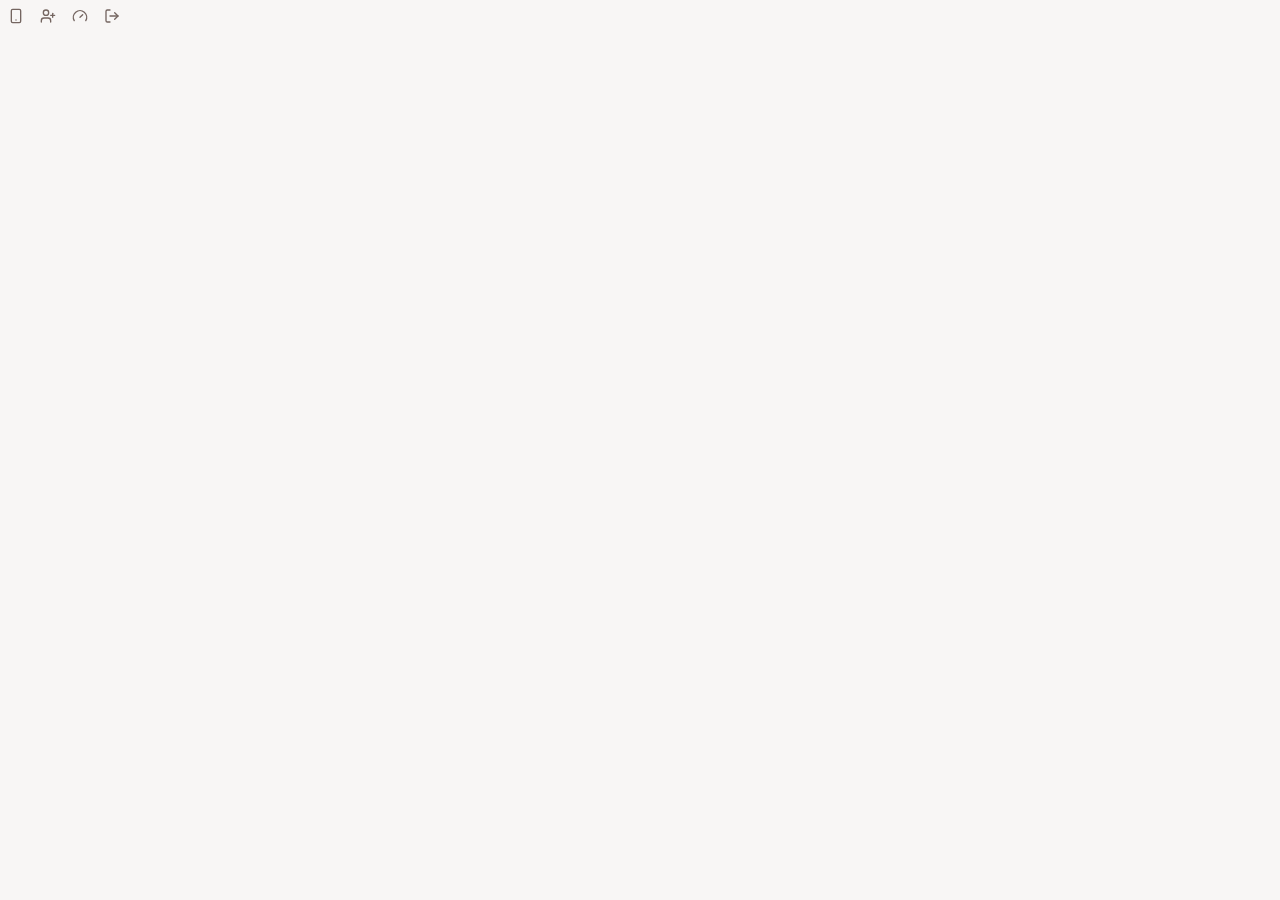
Test: AuthControls self-invite guard › disables inviting your own username and explains why
Click the button named "Invite a user".
click(48, 16)  # box [32,0,64,32]
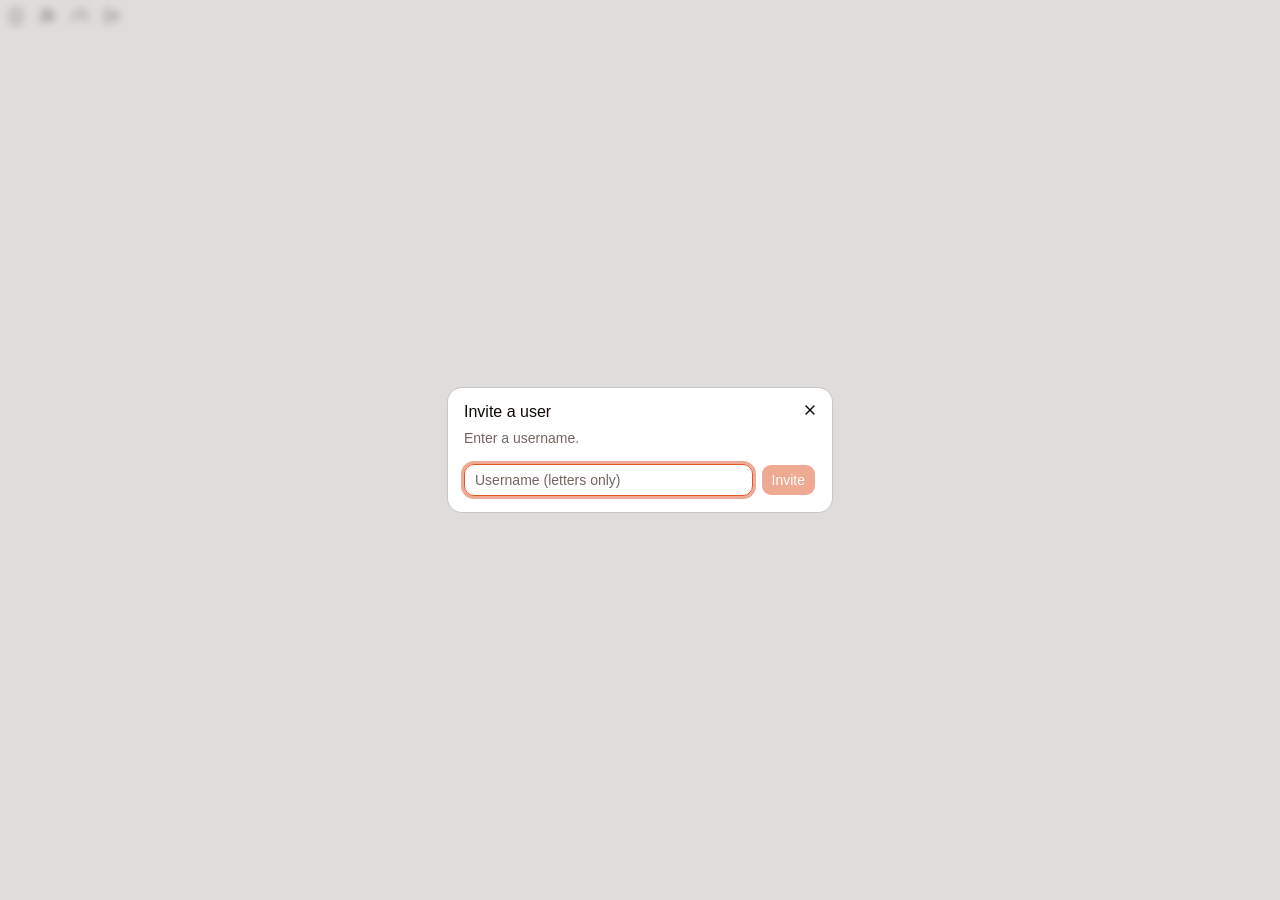
Type "alice" into the field with placeholder "Username (letters only)".
click(608, 480); type("alice")  # box [464,464,752,496]
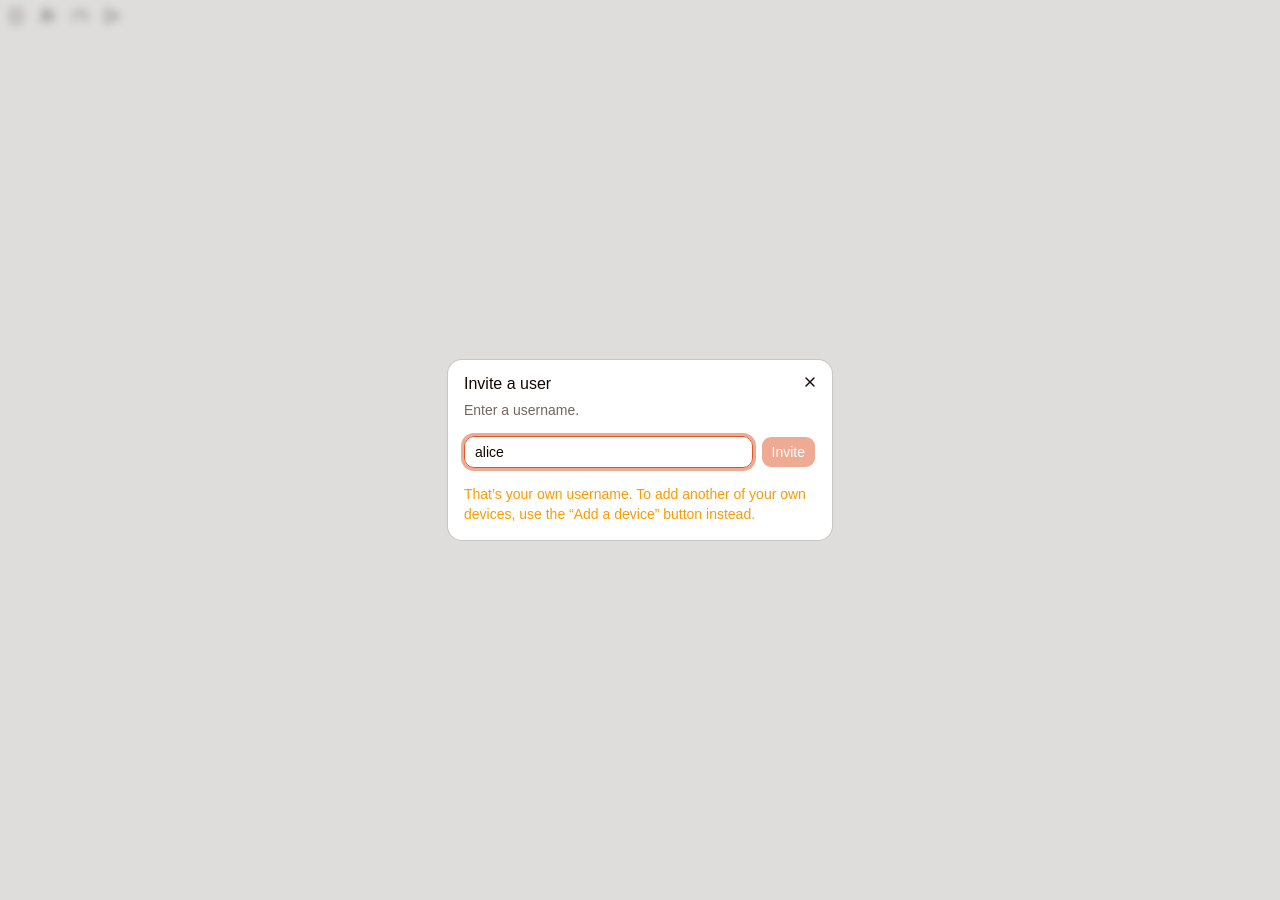
Expected: the button "Invite" is disabled, [760,436,816,468]
Expected: the text "own username" is shown, [464,486,806,522]
